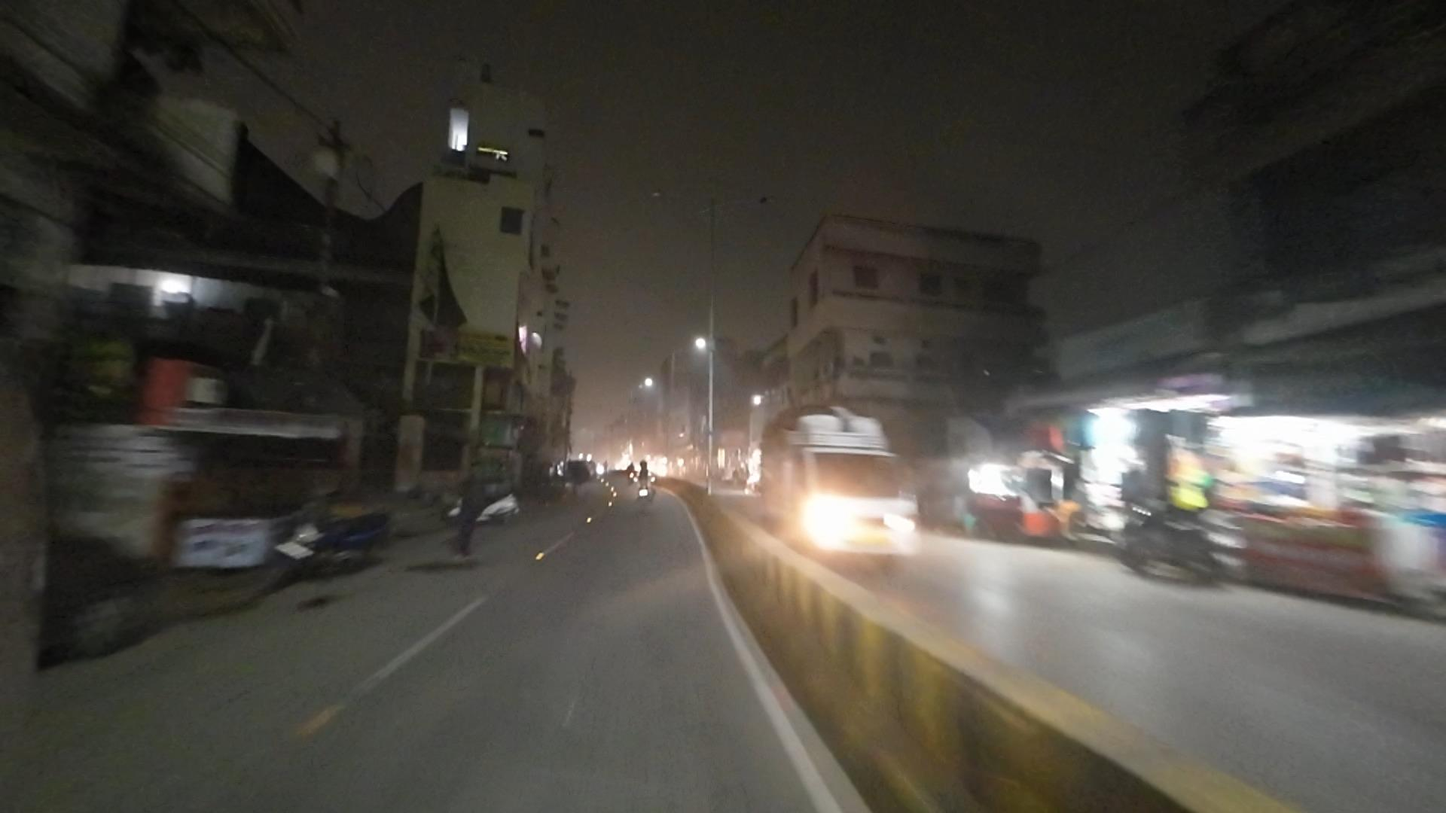streetlight: (648, 187, 702, 210), (720, 193, 781, 210)
